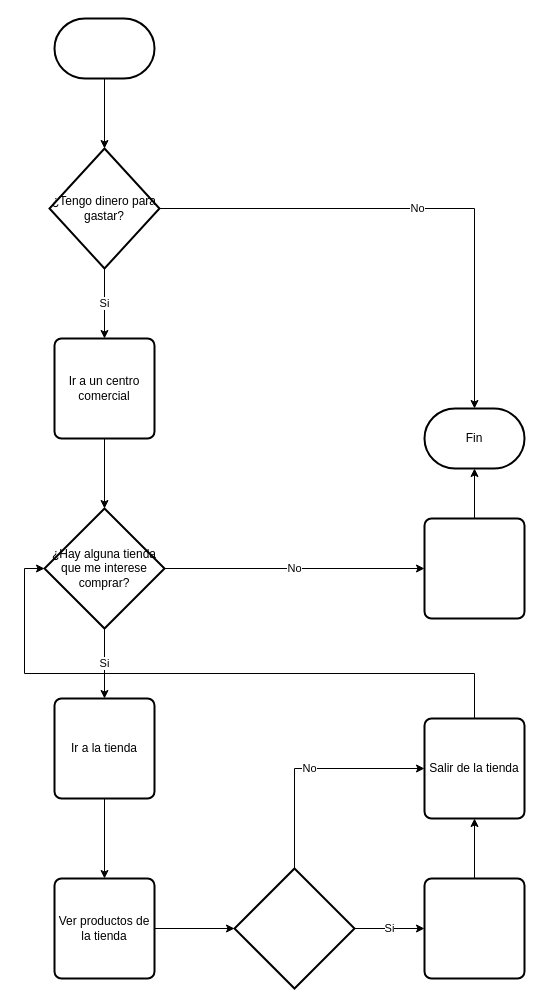
The diagram is 543 pixels wide and 1006 high, and some of its shapes have lost their labels. Here are the shapes that lost their labels. From the top down, the box of each, then its label:
(53, 17, 155, 79): Inicio
(423, 517, 525, 619): Salir del centro comercial
(233, 867, 355, 989): ¿Encontré algun producto que quiera comprar?
(423, 877, 525, 979): Comprar producto
